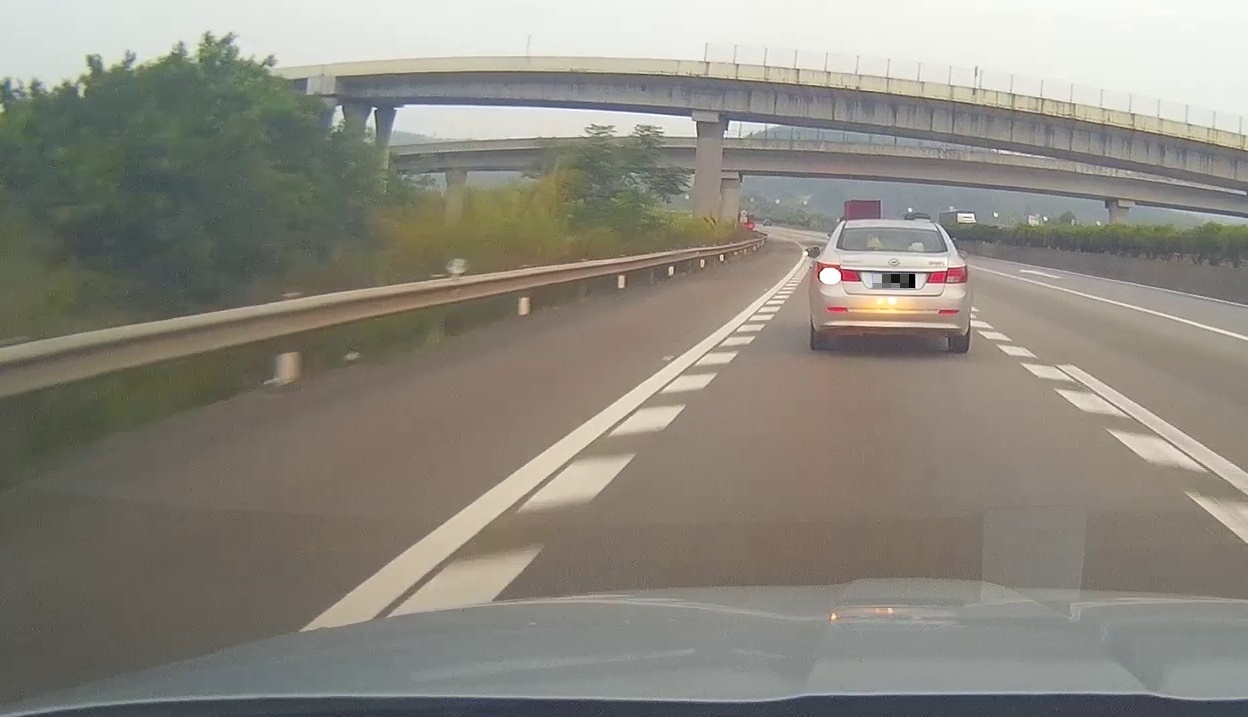L_light: (816, 261, 861, 285)
R_light: (925, 264, 968, 284)
T_light: (882, 227, 906, 230)
day-left: (813, 221, 972, 350)
plate_1: (873, 274, 915, 288)
